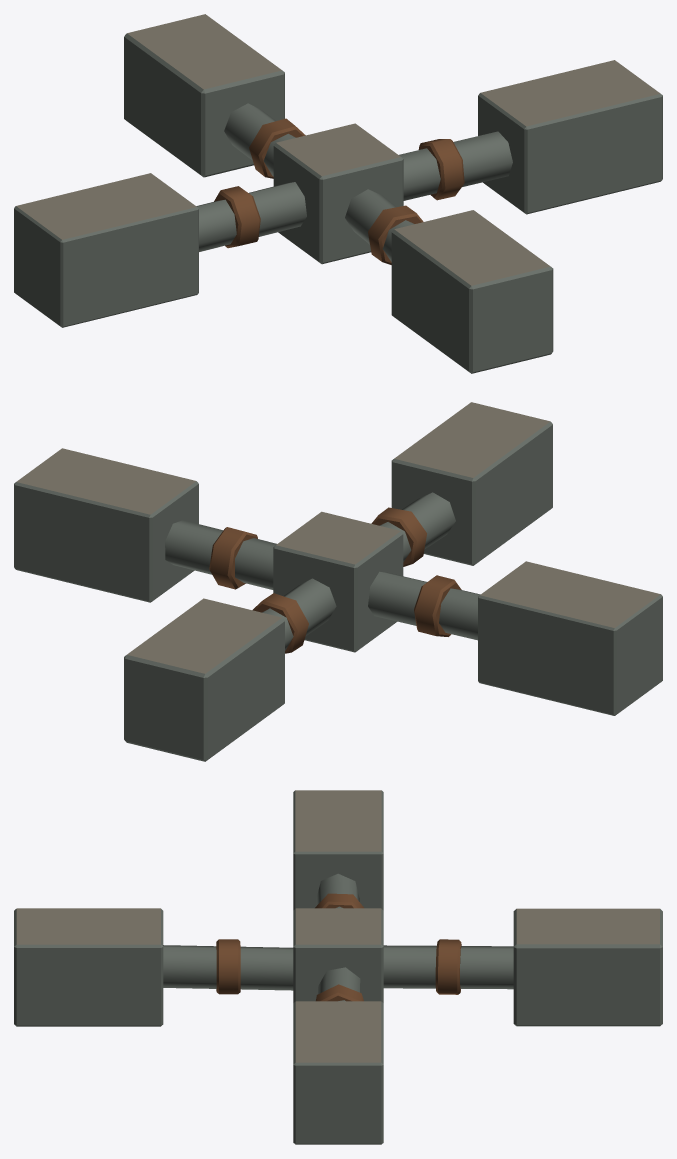
Rendered from R4C_ROD_PLUS_LOD1.fbx.
3 views of the same model, one above another, from view 1: azimuth 30°, elevation 25°; view 2: azimuth 150°, elevation 25°; view 3: azimuth 270°, elevation 25° (orthographic). The views are drawn at different scales.
Parts seen in each view (by area): view 1: R4C_ROD_PLUS_LOD1; view 2: R4C_ROD_PLUS_LOD1; view 3: R4C_ROD_PLUS_LOD1.
Boxes of the visible parts, bbox=[...] form: R4C_ROD_PLUS_LOD1: bbox=[14, 14, 662, 373]; R4C_ROD_PLUS_LOD1: bbox=[14, 402, 662, 761]; R4C_ROD_PLUS_LOD1: bbox=[14, 790, 662, 1144].
Size of the model in its own units: 1.62 by 0.226 by 1.62.
